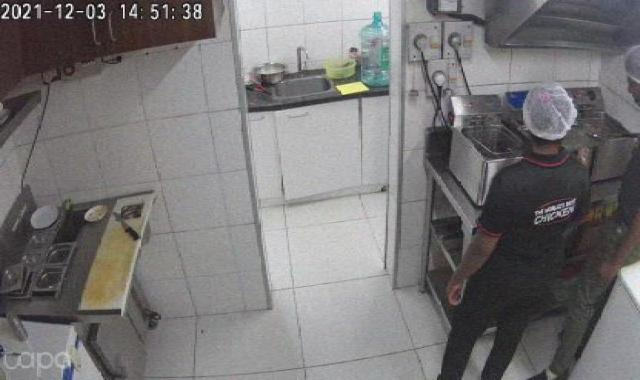hairnet: (514, 78, 582, 140), (617, 38, 640, 112)
